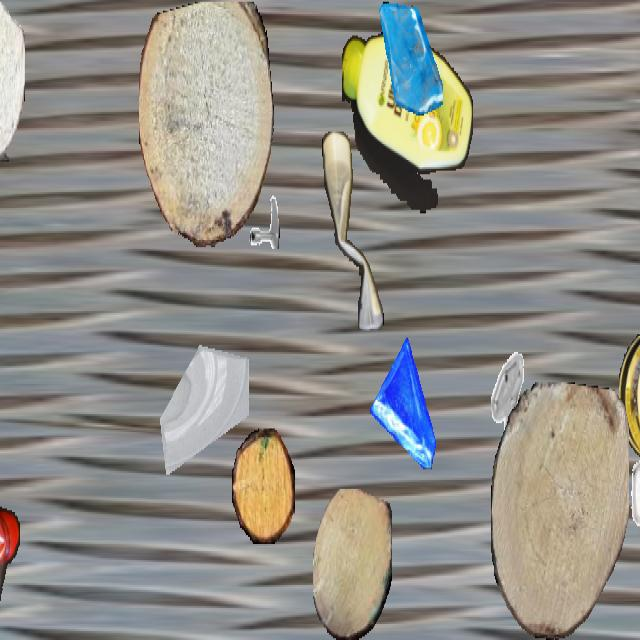glass: (156, 309, 248, 473), (370, 338, 444, 469), (379, 1, 443, 116)
metal: (477, 349, 537, 455), (238, 174, 280, 249), (625, 439, 640, 549)
plastic: (342, 32, 472, 213), (322, 132, 384, 330), (0, 436, 20, 638), (619, 325, 640, 464)
wood: (491, 382, 629, 638), (139, 2, 273, 247), (313, 489, 391, 638), (232, 428, 294, 542), (0, 2, 25, 162)
